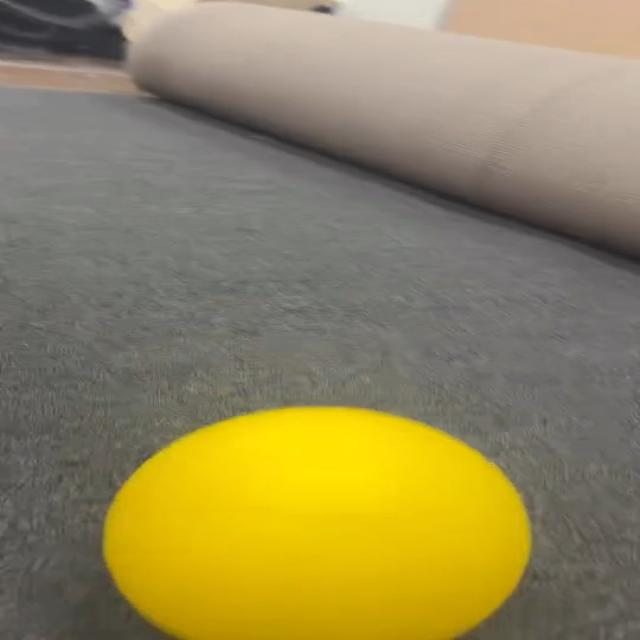Fuels: (104, 408, 526, 636)
